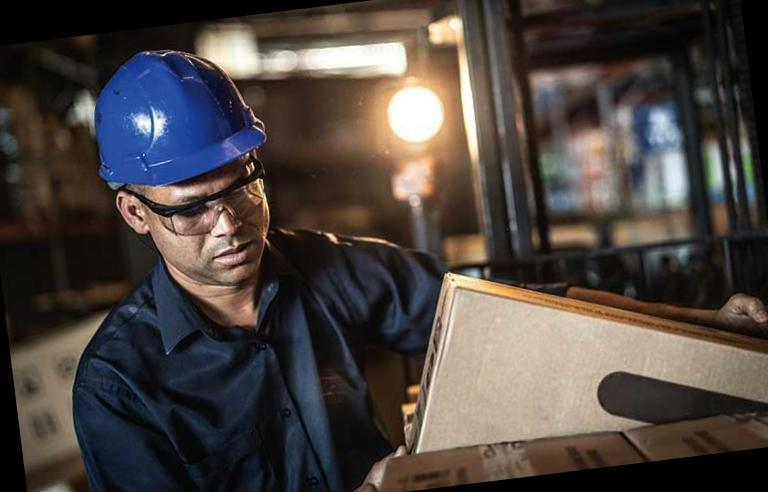helmet: (74, 24, 280, 206)
no_vest: (69, 209, 397, 492)
person: (26, 18, 414, 492)
